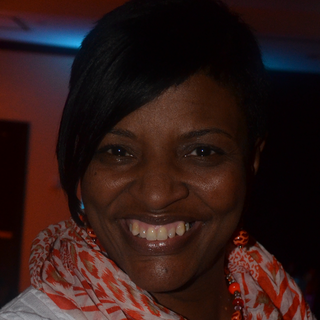eye: (180, 143, 229, 165), (99, 141, 138, 162)
